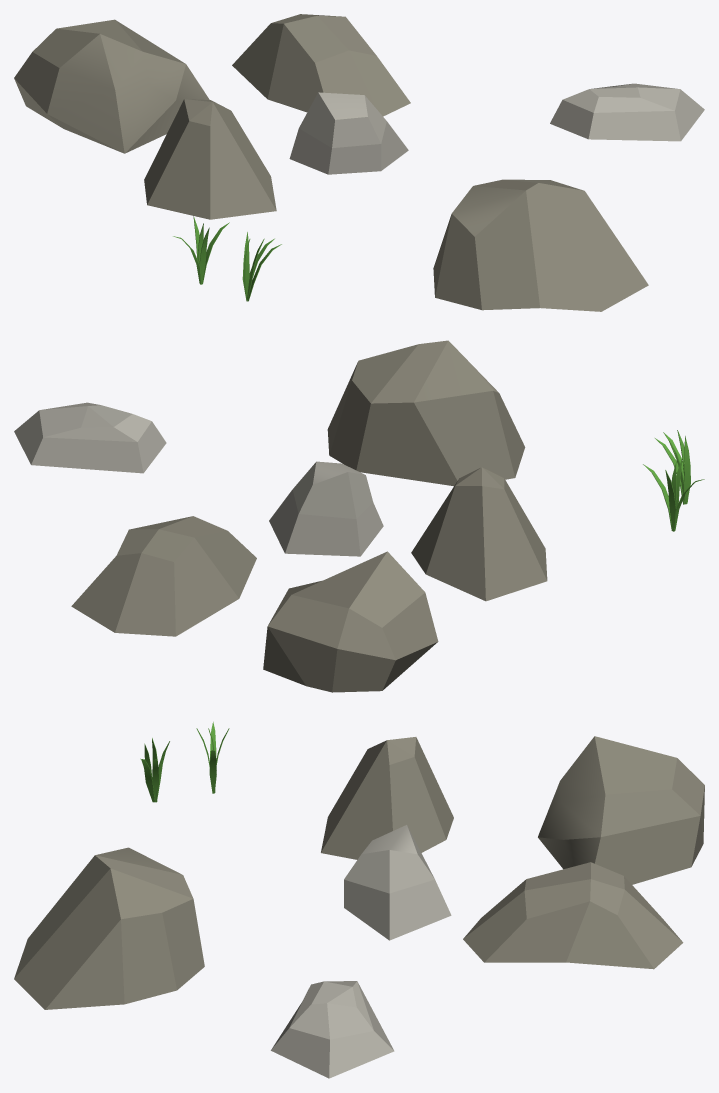
Rendered from Rocks & plants - ants.fbx.
The picture shows the model from 3 angles, top to bottom: view 1: azimuth 30°, elevation 25°; view 2: azimuth 150°, elevation 25°; view 3: azimuth 270°, elevation 25°; orthographic projection. The views are drawn at different scales.
Visible parts, largest first — view 1: pSphere3, pCube1, pSphere1, pCube2, pSphere2, pSphere4, pCube8, polySurface6; view 2: pSphere3, pCube1, pCube2, pSphere1, pSphere4, pSphere2, pCube8, polySurface6; view 3: pSphere3, pCube1, pCube2, pSphere1, pSphere2, pSphere4, polySurface6, pCube8.
Part boxes in pixels (<box>): pSphere3: <box>433,179,648,311</box>; pCube1: <box>14,19,209,153</box>; pSphere1: <box>144,99,276,219</box>; pCube2: <box>232,14,410,116</box>; pSphere2: <box>289,92,408,174</box>; pSphere4: <box>550,83,704,141</box>; pCube8: <box>173,216,229,284</box>; polySurface6: <box>242,232,281,301</box>; pSphere3: <box>327,340,525,486</box>; pCube1: <box>263,551,438,692</box>; pCube2: <box>71,516,256,636</box>; pSphere1: <box>411,467,547,601</box>; pSphere4: <box>14,402,166,473</box>; pSphere2: <box>269,461,383,556</box>; pCube8: <box>643,457,704,531</box>; polySurface6: <box>655,430,690,504</box>; pSphere3: <box>14,847,204,1009</box>; pCube1: <box>538,736,704,884</box>; pCube2: <box>463,862,683,969</box>; pSphere1: <box>321,737,453,859</box>; pSphere2: <box>344,825,451,940</box>; pSphere4: <box>271,981,394,1078</box>; polySurface6: <box>140,738,169,802</box>; pCube8: <box>196,722,229,793</box>.
Bounding box in the file's own units: 13.95 × 2.92 × 13.7.
